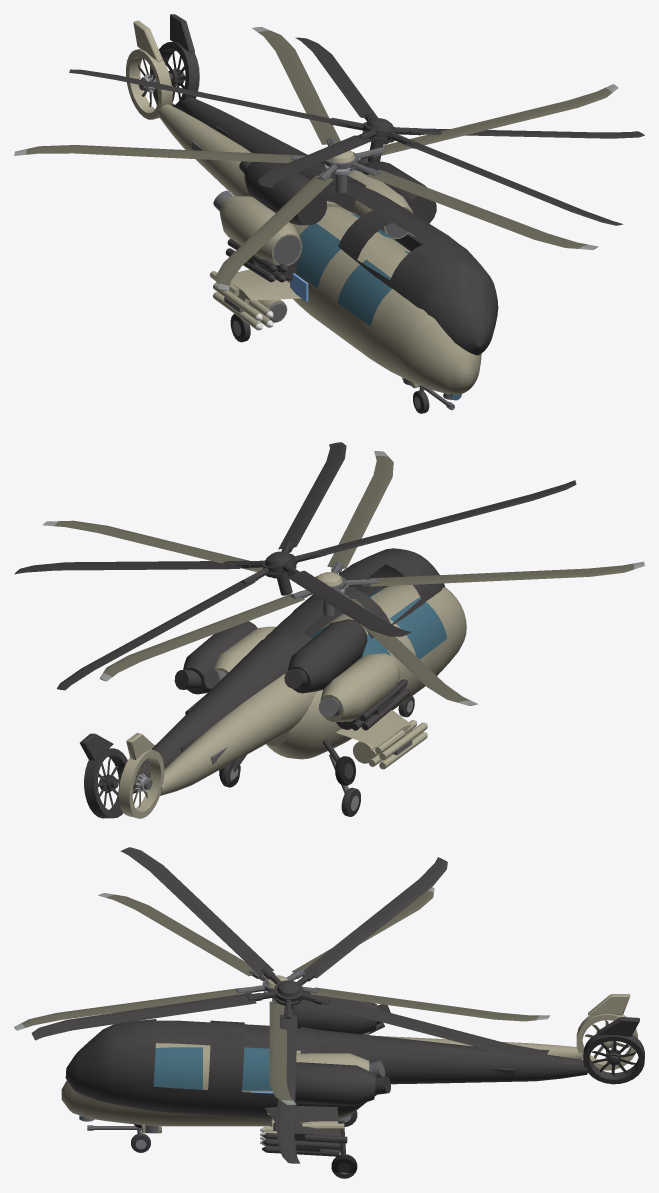
The model's file is gunship__lah_1_miron.glb.
The picture shows the model from 3 angles, top to bottom: view 1: azimuth 30°, elevation 25°; view 2: azimuth 150°, elevation 25°; view 3: azimuth 270°, elevation 25°; orthographic projection. The views are drawn at different scales.
Visible parts, largest first — view 1: Wreck, Fuselage_Mesh, Rotor_Main_Mesh, Engines_Mesh, Stub_Wings_Stores_Mesh, Fenestron_Mesh, Landing_Gear_Mesh; view 2: Wreck, Fuselage_Mesh, Rotor_Main_Mesh, Engines_Mesh, Stub_Wings_Stores_Mesh, Fenestron_Mesh, Landing_Gear_Mesh; view 3: Wreck, Rotor_Main_Mesh, Fuselage_Mesh, Fenestron_Mesh, Engines_Mesh, Landing_Gear_Mesh, Stub_Wings_Stores_Mesh.
Part boxes in pixels (bbox=[...]): Wreck: bbox=[69, 14, 644, 355]; Fuselage_Mesh: bbox=[157, 104, 481, 400]; Rotor_Main_Mesh: bbox=[14, 27, 618, 290]; Engines_Mesh: bbox=[213, 170, 413, 266]; Stub_Wings_Stores_Mesh: bbox=[210, 269, 301, 330]; Fenestron_Mesh: bbox=[126, 20, 172, 119]; Landing_Gear_Mesh: bbox=[230, 313, 429, 413]; Wreck: bbox=[14, 442, 576, 818]; Fuselage_Mesh: bbox=[160, 584, 466, 795]; Rotor_Main_Mesh: bbox=[42, 451, 644, 705]; Engines_Mesh: bbox=[204, 626, 400, 721]; Stub_Wings_Stores_Mesh: bbox=[336, 710, 427, 769]; Fenestron_Mesh: bbox=[119, 733, 164, 818]; Landing_Gear_Mesh: bbox=[221, 696, 414, 816]; Wreck: bbox=[31, 847, 644, 1172]; Rotor_Main_Mesh: bbox=[14, 887, 549, 1105]; Fuselage_Mesh: bbox=[61, 1036, 581, 1126]; Fenestron_Mesh: bbox=[576, 994, 637, 1070]; Engines_Mesh: bbox=[296, 1022, 385, 1077]; Landing_Gear_Mesh: bbox=[131, 1111, 357, 1178]; Stub_Wings_Stores_Mesh: bbox=[260, 1113, 344, 1145].
Size of what is drawn, in the model's own units: 12.24 by 5.83 by 14.18.
